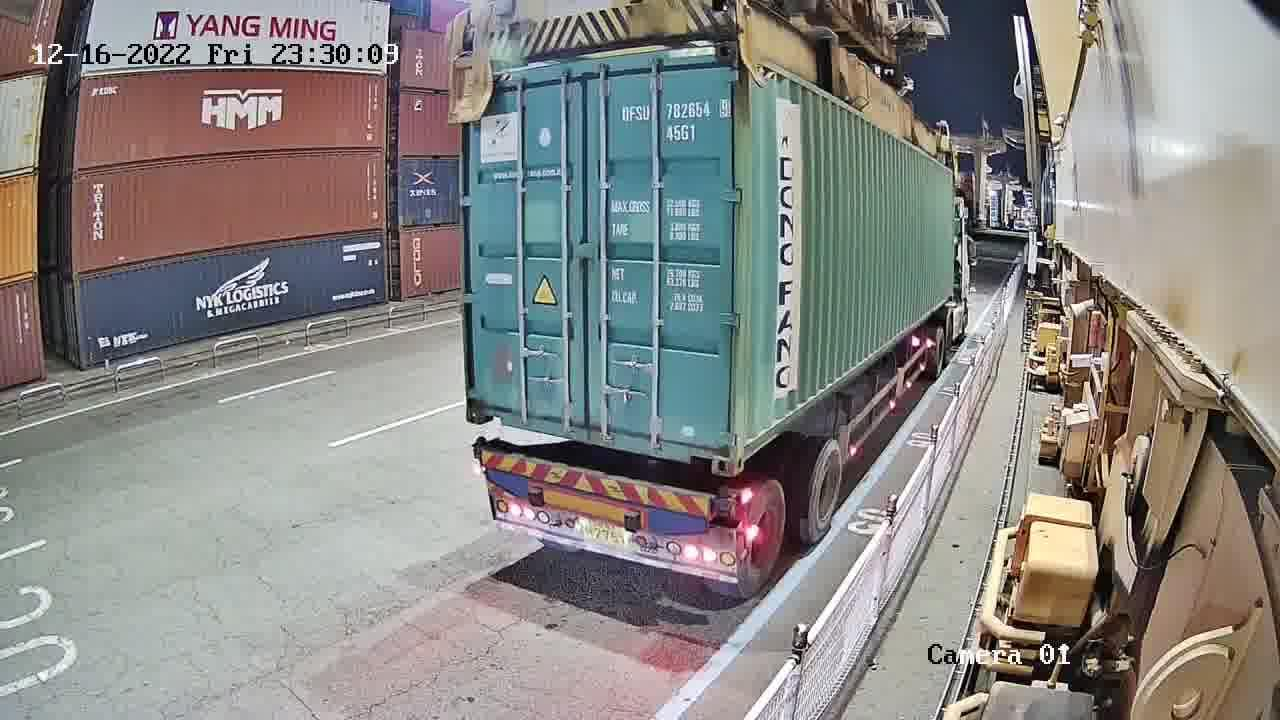Chassis: (480, 449, 726, 533)
Cone: (712, 487, 735, 520), (471, 436, 483, 469)
Hole_L: (734, 413, 770, 478), (466, 378, 510, 426)
Hole_R: (683, 420, 736, 475)
